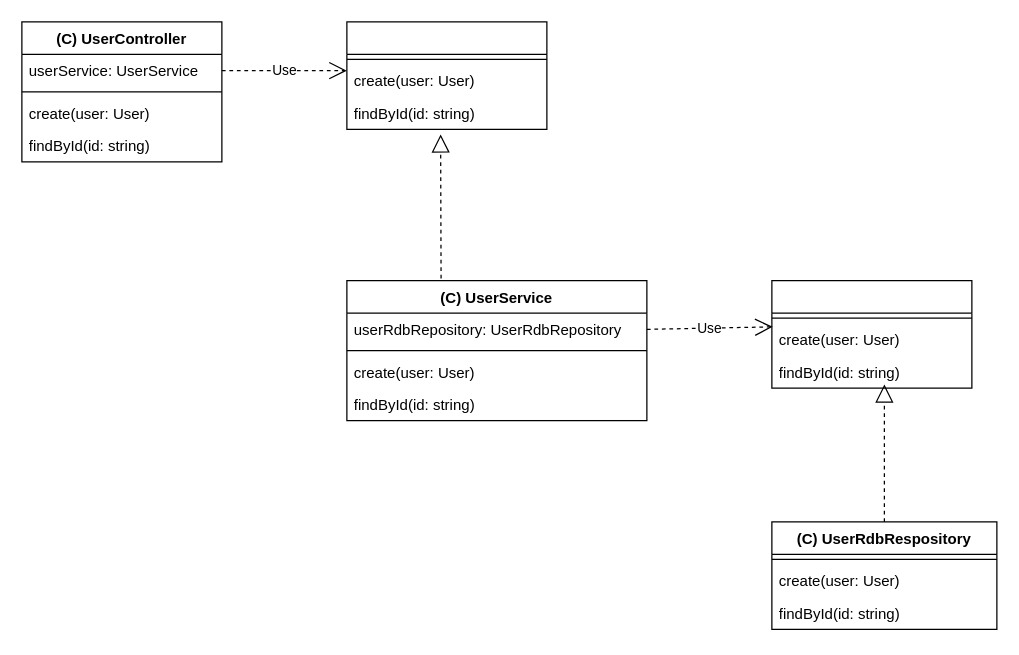
Image size: 1019x655. Some labels were removed from this diagram. Here are the shapes that lost their labels. From the top down, the box of each, then its label:
(346, 21, 547, 129): (I) IUserService
(771, 279, 972, 388): (I) IUserRepository
